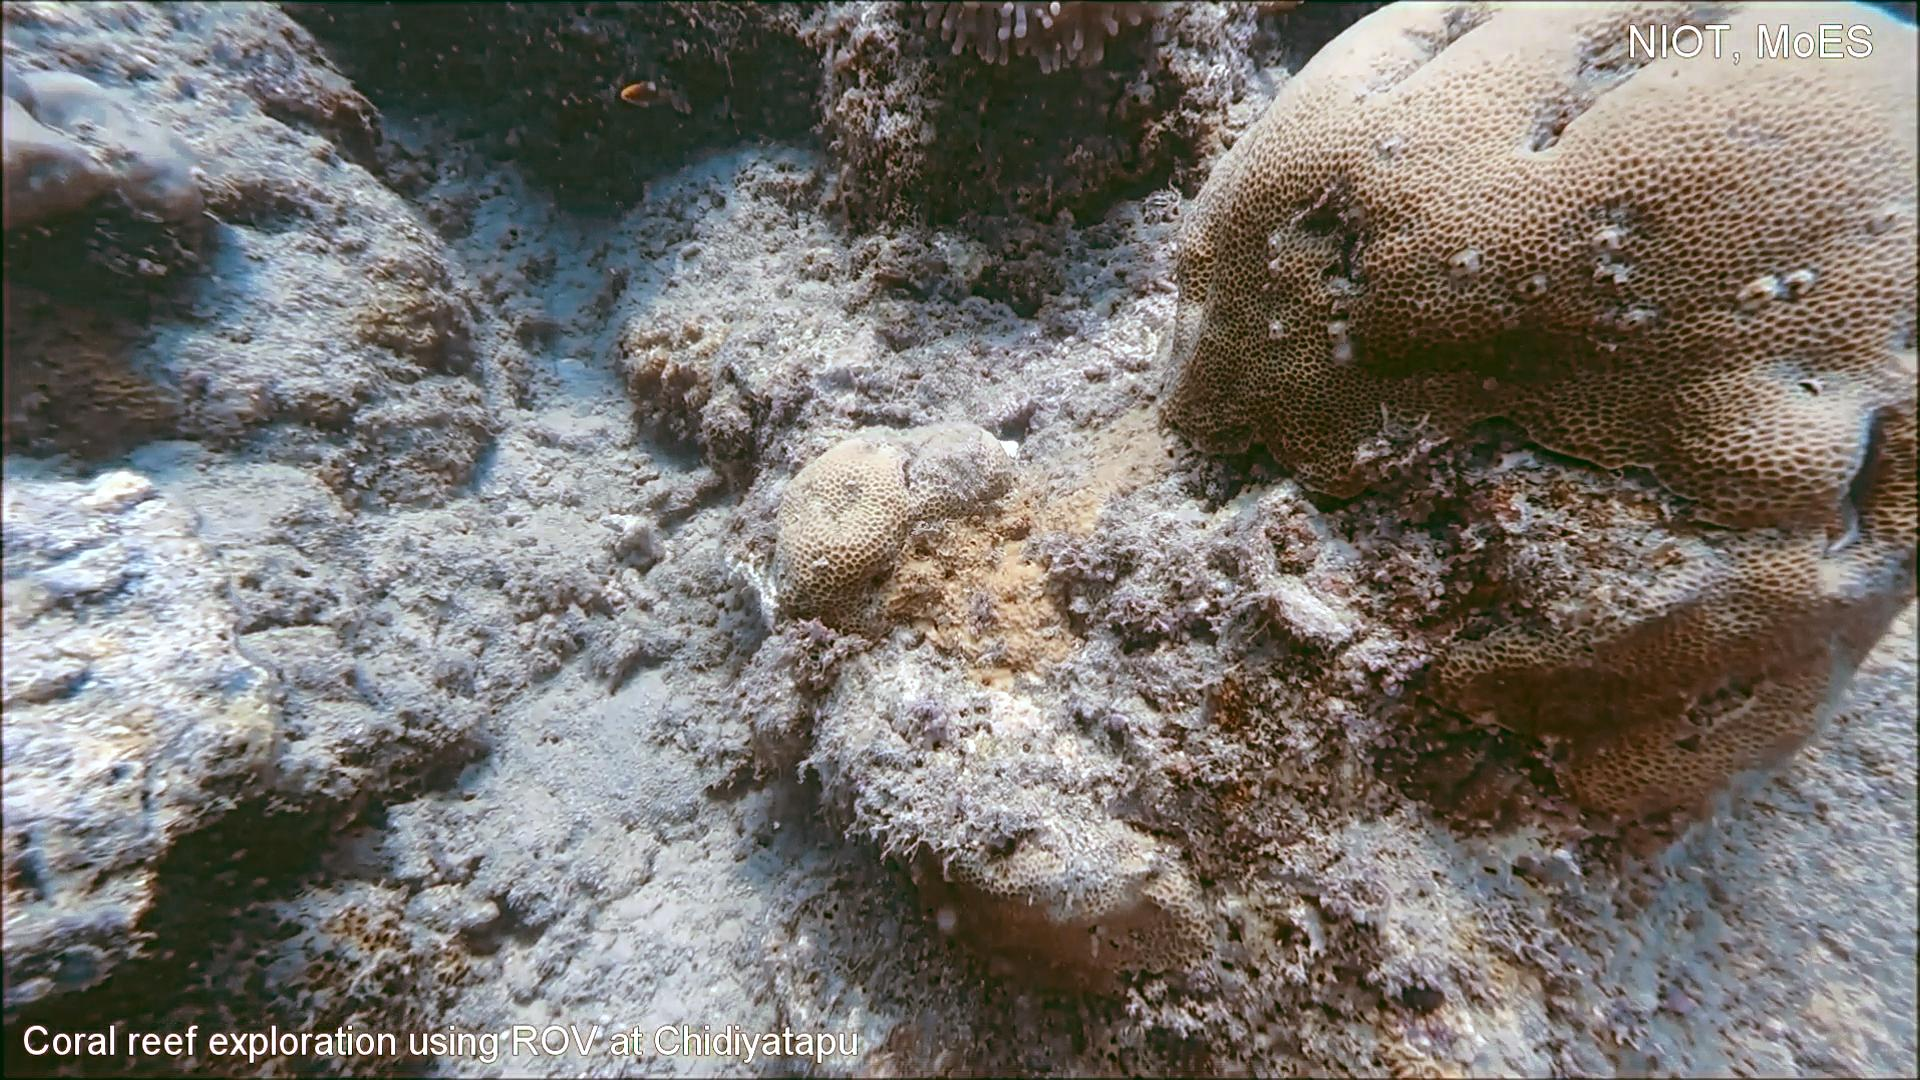Macrodactyla doreensis-Long tentacle Anemone: (906, 0, 1193, 86)
